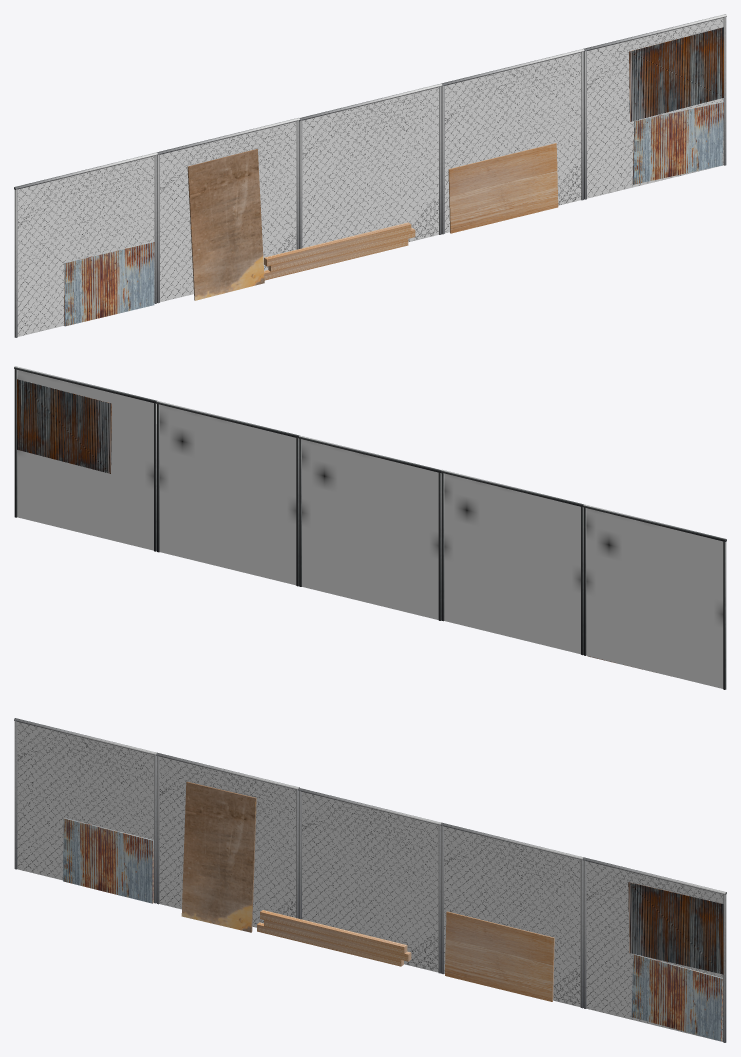
Rendered from Pembatas.fbx.
The picture shows the model from 3 angles, top to bottom: view 1: azimuth 30°, elevation 25°; view 2: azimuth 150°, elevation 25°; view 3: azimuth 330°, elevation 25°; orthographic projection.
Parts seen in each view (by area): view 1: Wire.002, Wire.005, Wire.001, Wire.003, Papan4.001, Wire, Papan3.001, Seng1.001, Seng2.002, Seng2.001, Kayu3.003, Kayu3.001 (+1 smaller); view 2: Wire.005, Wire.003, Wire.001, Wire.002, Wire, Seng1.001; view 3: Wire.002, Wire.005, Wire.001, Wire.003, Papan4.001, Wire, Papan3.001, Seng1.001, Seng2.002, Seng2.001, Kayu3.003, Kayu3.001 (+1 smaller).
Part boxes in pixels (x1,y1,x2,y2): Wire.002: (299,83,442,248); Wire.005: (14,152,157,337); Wire.001: (441,49,584,234); Wire.003: (157,117,299,303); Papan4.001: (187,149,264,300); Wire: (583,14,726,199); Papan3.001: (448,143,558,233); Seng1.001: (629,27,723,121); Seng2.002: (64,241,154,326); Seng2.001: (632,101,723,184); Kayu3.003: (264,222,411,266); Kayu3.001: (264,238,408,280); Wire.005: (583,504,726,689); Wire.003: (441,469,583,655); Wire.001: (156,401,299,586); Wire.002: (298,435,441,620); Wire: (14,366,157,551); Seng1.001: (17,379,111,473); Wire.002: (298,788,441,973); Wire.005: (14,718,156,903); Wire.001: (440,822,583,1008); Wire.003: (156,752,299,927); Papan4.001: (181,781,256,932); Wire: (583,857,726,1042); Papan3.001: (445,911,554,1001); Seng1.001: (628,882,723,974); Seng2.002: (63,818,153,903); Seng2.001: (631,954,722,1041); Kayu3.003: (260,910,407,953); Kayu3.001: (257,922,403,966).
Bounding box in the file's own units: 650 × 132 × 11.95.
